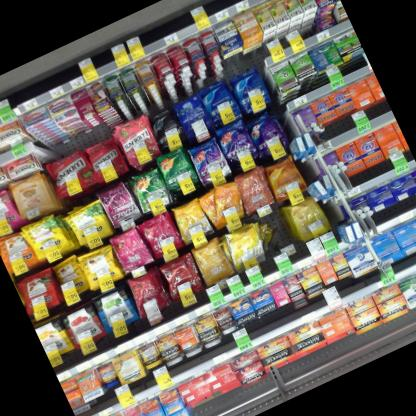empty_space: (251, 203, 301, 264)
